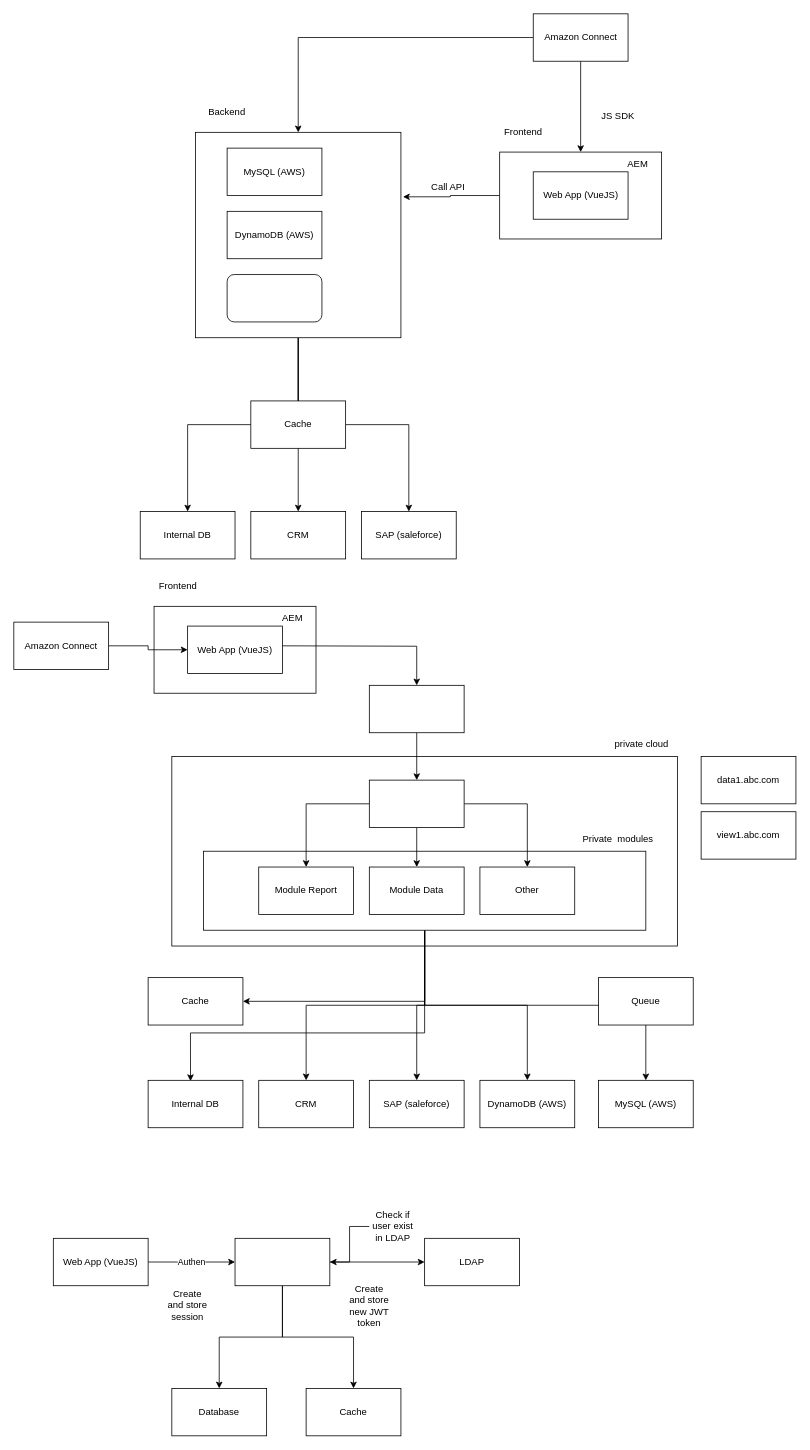
Image size: 810x1450. Some labels were removed from this diagram. The centre of each missing label's shape, as x and y in pixels:
"AWS Lambda" belongs at point 274,298.
"Cloudfront" belongs at point 416,709.
"Login API" belongs at point 282,1262.
"Module View" belongs at point 416,803.
